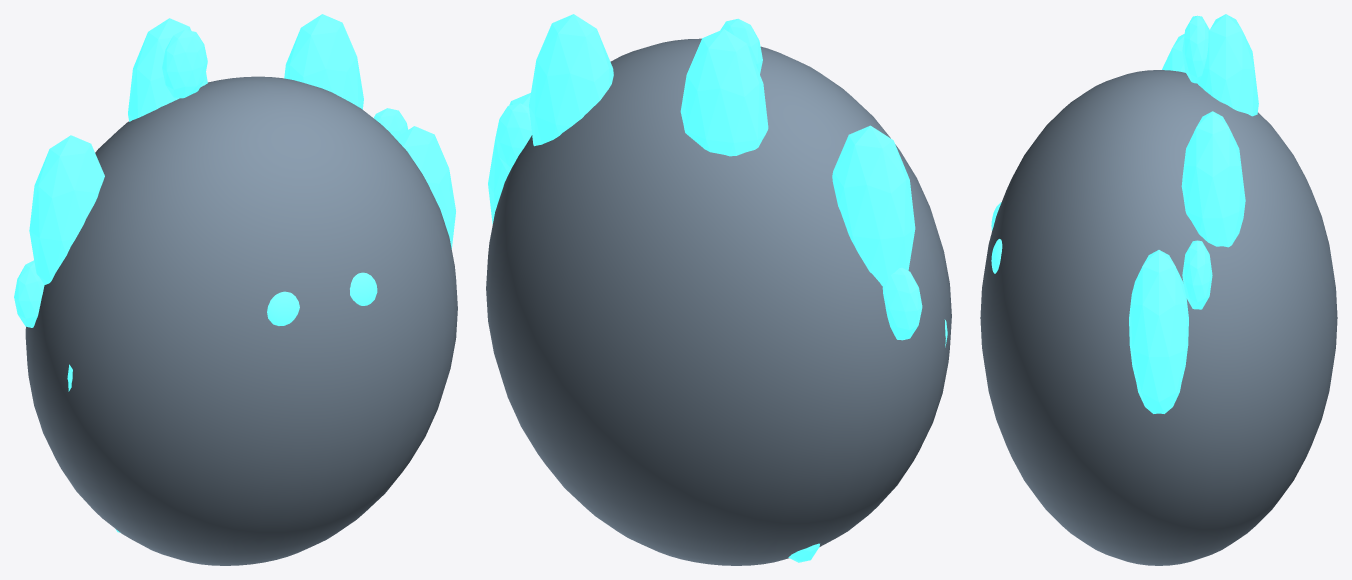
The model's file is elemental_v2.glb.
3 renders of one model, left to right at view 1: azimuth 30°, elevation 25°; view 2: azimuth 150°, elevation 25°; view 3: azimuth 270°, elevation 25°, orthographic. The views are drawn at different scales.
Visible parts, largest first — view 1: CORE_BODY_PRIMARY, ENERGY_SHARD_EMISSIVE.003, ENERGY_SHARD_EMISSIVE.001, ENERGY_SHARD_EMISSIVE.002, ENERGY_SHARD_EMISSIVE, VARIANT_GEM_EMISSIVE.001, VARIANT_GEM_EMISSIVE.002, EYE_EMISSIVE, EYE_EMISSIVE.001, VARIANT_GEM_EMISSIVE; view 2: CORE_BODY_PRIMARY, ENERGY_SHARD_EMISSIVE.003, ENERGY_SHARD_EMISSIVE.002, ENERGY_SHARD_EMISSIVE.001, VARIANT_GEM_EMISSIVE.002, VARIANT_GEM_EMISSIVE, ENERGY_SHARD_EMISSIVE, VARIANT_GEM_EMISSIVE.001; view 3: CORE_BODY_PRIMARY, ENERGY_SHARD_EMISSIVE, ENERGY_SHARD_EMISSIVE.001, ENERGY_SHARD_EMISSIVE.002, VARIANT_GEM_EMISSIVE, VARIANT_GEM_EMISSIVE.001, ENERGY_SHARD_EMISSIVE.003.
Part boxes in pixels (left/top/right/bottom): CORE_BODY_PRIMARY: left=25, top=76, right=457, bottom=565; ENERGY_SHARD_EMISSIVE.003: left=29, top=135, right=104, bottom=285; ENERGY_SHARD_EMISSIVE.001: left=284, top=14, right=363, bottom=109; ENERGY_SHARD_EMISSIVE.002: left=128, top=18, right=207, bottom=121; ENERGY_SHARD_EMISSIVE: left=395, top=126, right=455, bottom=249; VARIANT_GEM_EMISSIVE.001: left=162, top=29, right=207, bottom=98; VARIANT_GEM_EMISSIVE.002: left=14, top=260, right=44, bottom=327; EYE_EMISSIVE: left=267, top=291, right=299, bottom=325; EYE_EMISSIVE.001: left=350, top=272, right=377, bottom=305; VARIANT_GEM_EMISSIVE: left=374, top=108, right=408, bottom=137; CORE_BODY_PRIMARY: left=486, top=38, right=951, bottom=565; ENERGY_SHARD_EMISSIVE.003: left=832, top=125, right=915, bottom=286; ENERGY_SHARD_EMISSIVE.002: left=680, top=29, right=768, bottom=156; ENERGY_SHARD_EMISSIVE.001: left=529, top=14, right=613, bottom=146; VARIANT_GEM_EMISSIVE.002: left=882, top=267, right=922, bottom=340; VARIANT_GEM_EMISSIVE: left=495, top=103, right=531, bottom=172; ENERGY_SHARD_EMISSIVE: left=488, top=93, right=530, bottom=223; VARIANT_GEM_EMISSIVE.001: left=720, top=18, right=762, bottom=74; CORE_BODY_PRIMARY: left=980, top=70, right=1337, bottom=565; ENERGY_SHARD_EMISSIVE: left=1129, top=250, right=1188, bottom=413; ENERGY_SHARD_EMISSIVE.001: left=1181, top=111, right=1245, bottom=247; ENERGY_SHARD_EMISSIVE.002: left=1197, top=14, right=1258, bottom=116; VARIANT_GEM_EMISSIVE: left=1182, top=240, right=1212, bottom=309; VARIANT_GEM_EMISSIVE.001: left=1182, top=15, right=1209, bottom=83; ENERGY_SHARD_EMISSIVE.003: left=1162, top=34, right=1185, bottom=72.
Size of the model in its own units: 1.73 by 2.07 by 1.3.
